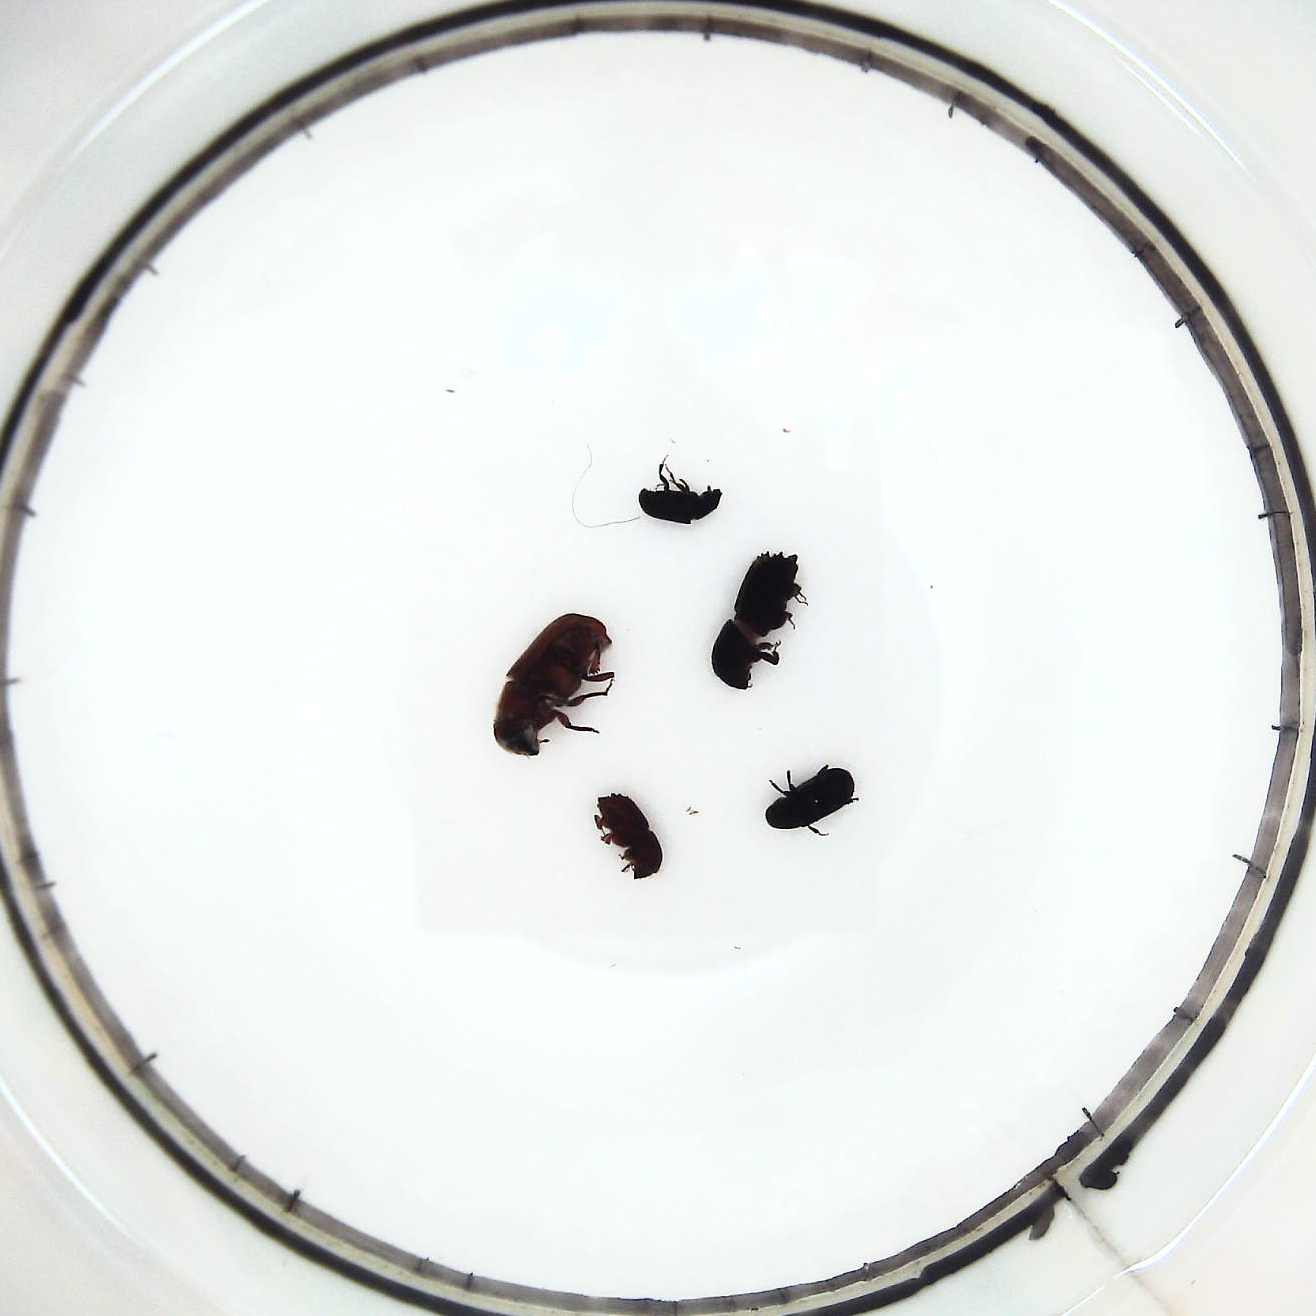Boerner: (706, 546, 806, 693)
Leconte: (492, 612, 624, 760)
armandi: (760, 758, 865, 841)
coleoptera: (636, 454, 724, 529)
linnaeus: (589, 785, 663, 885)
